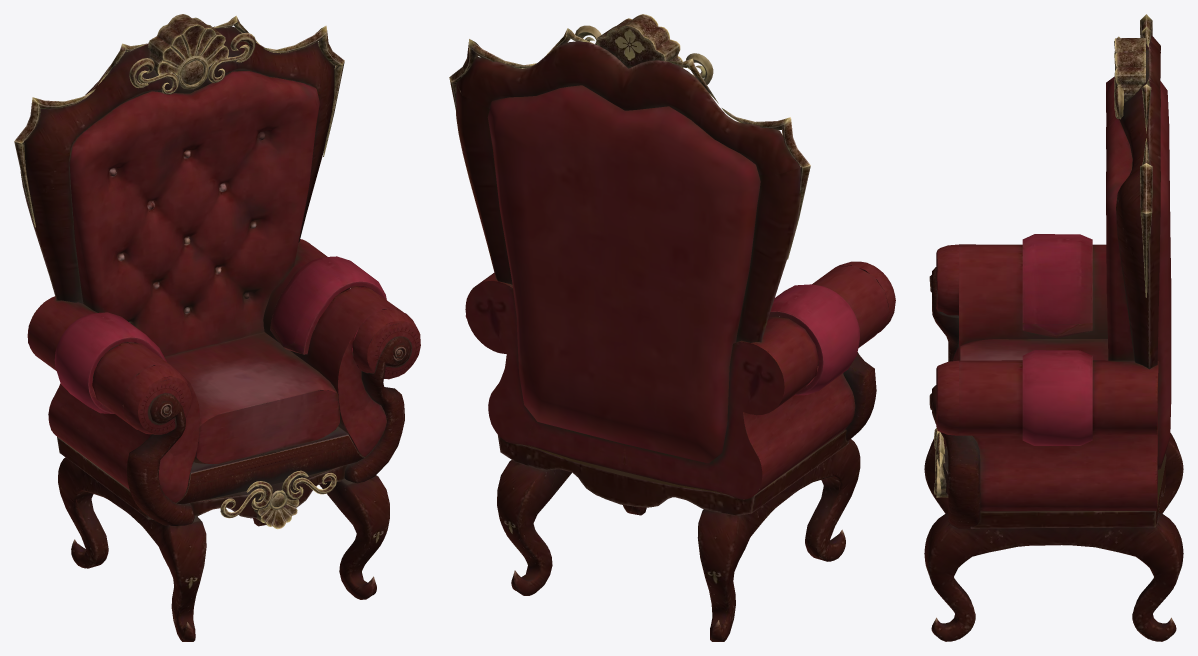
Rendered from vict_antique_chair.glb.
3 renders of one model, left to right at view 1: azimuth 30°, elevation 25°; view 2: azimuth 150°, elevation 25°; view 3: azimuth 270°, elevation 25°, orthographic. The views are drawn at different scales.
Parts seen in each view (by area): view 1: Cube.001_low_TD_Checker_0; view 2: Cube.001_low_TD_Checker_0; view 3: Cube.001_low_TD_Checker_0.
Part boxes in pixels (x1=…): Cube.001_low_TD_Checker_0: x1=14, y1=14, x2=420, y2=641; Cube.001_low_TD_Checker_0: x1=449, y1=14, x2=895, y2=641; Cube.001_low_TD_Checker_0: x1=924, y1=14, x2=1183, y2=641.
Bounding box in the file's own units: 0.6471 × 1 × 0.4226.
Materials: 1 (1 with a texture image).
